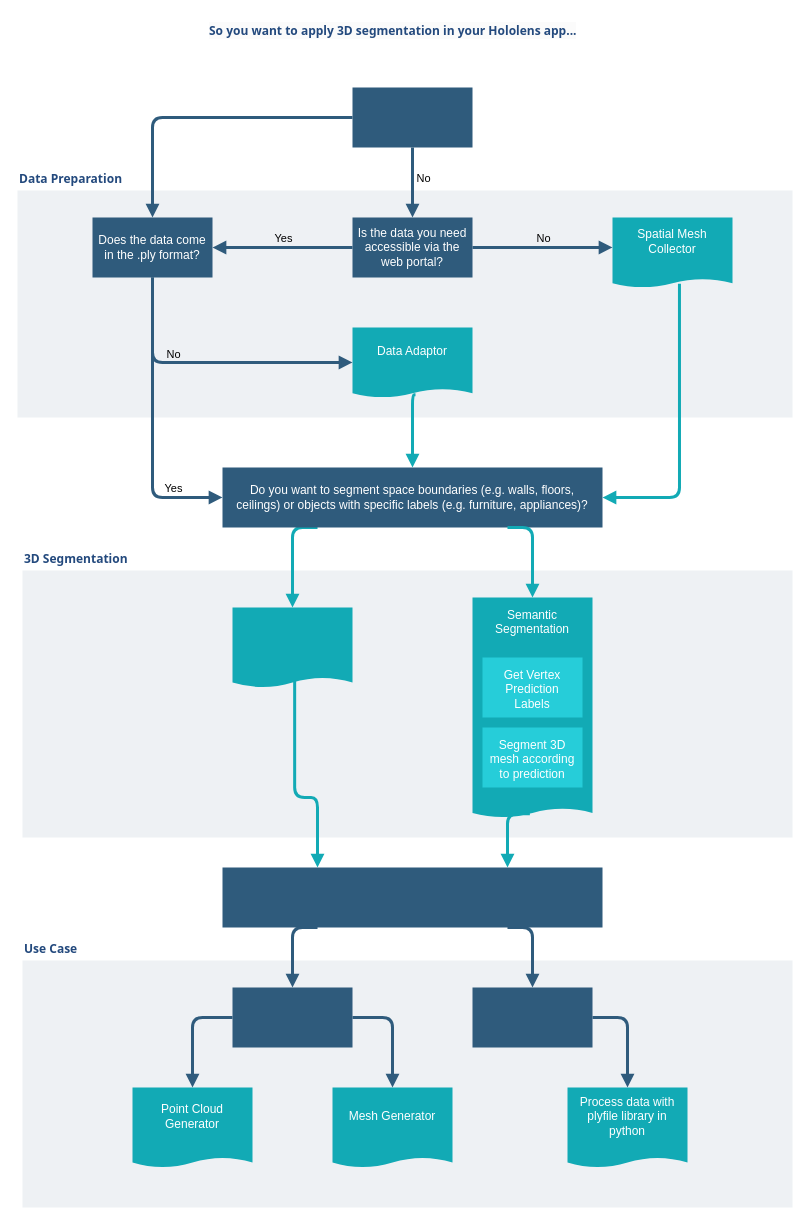
Image size: 809x1224. Some labels were removed from this diagram. Here are the shapes that lost their labels. From the top down, the box of each, then its label:
(352, 87, 472, 147): Do you have your 3D data ready?
(232, 607, 352, 687): Geometric Segmentation
(222, 867, 602, 927): How do you want to utilize the segmented data?
(232, 987, 352, 1047): Interact with the segments as virtual objects
(472, 987, 592, 1047): Perform further data analyzation
